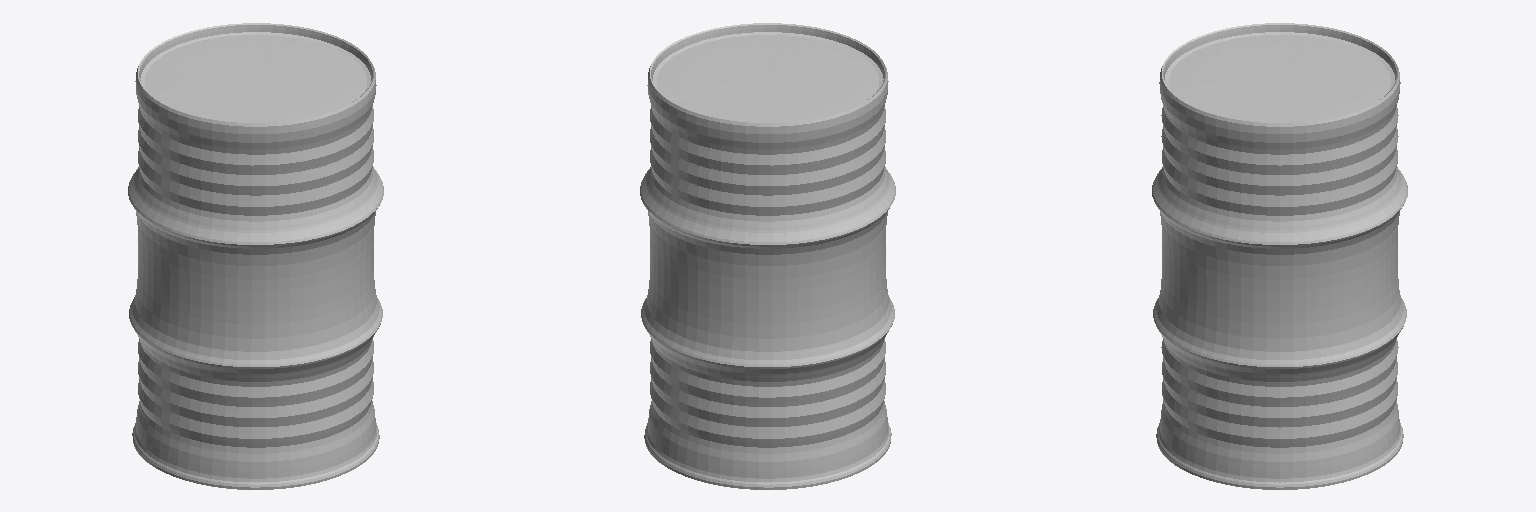
The model's file is barrel.obj.
3 renders of one model, left to right at view 1: azimuth 30°, elevation 25°; view 2: azimuth 150°, elevation 25°; view 3: azimuth 270°, elevation 25°, orthographic.
Parts seen in each view (by area): view 1: Cylinder.001; view 2: Cylinder.001; view 3: Cylinder.001.
Part boxes in pixels (left/top/right/bottom): Cylinder.001: left=128, top=23, right=383, bottom=489; Cylinder.001: left=640, top=23, right=895, bottom=489; Cylinder.001: left=1152, top=23, right=1407, bottom=489.
Size of the model in its own units: 2.11 by 3.31 by 2.11.